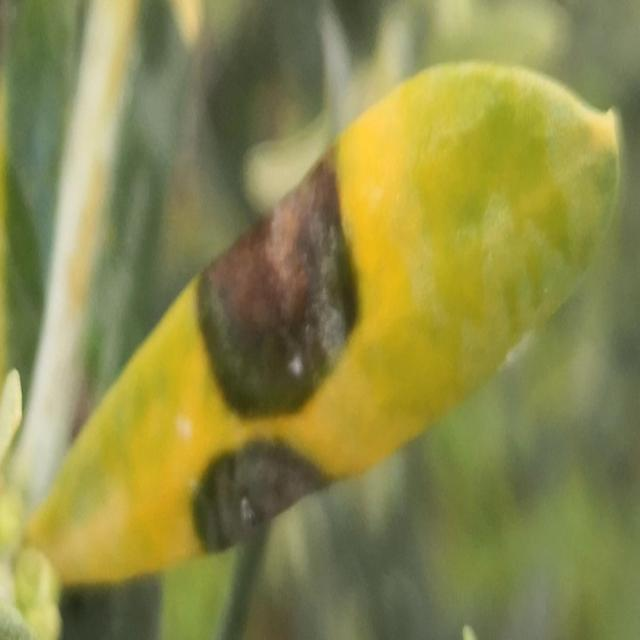OlivePeacockSpot: (23, 64, 622, 584)
